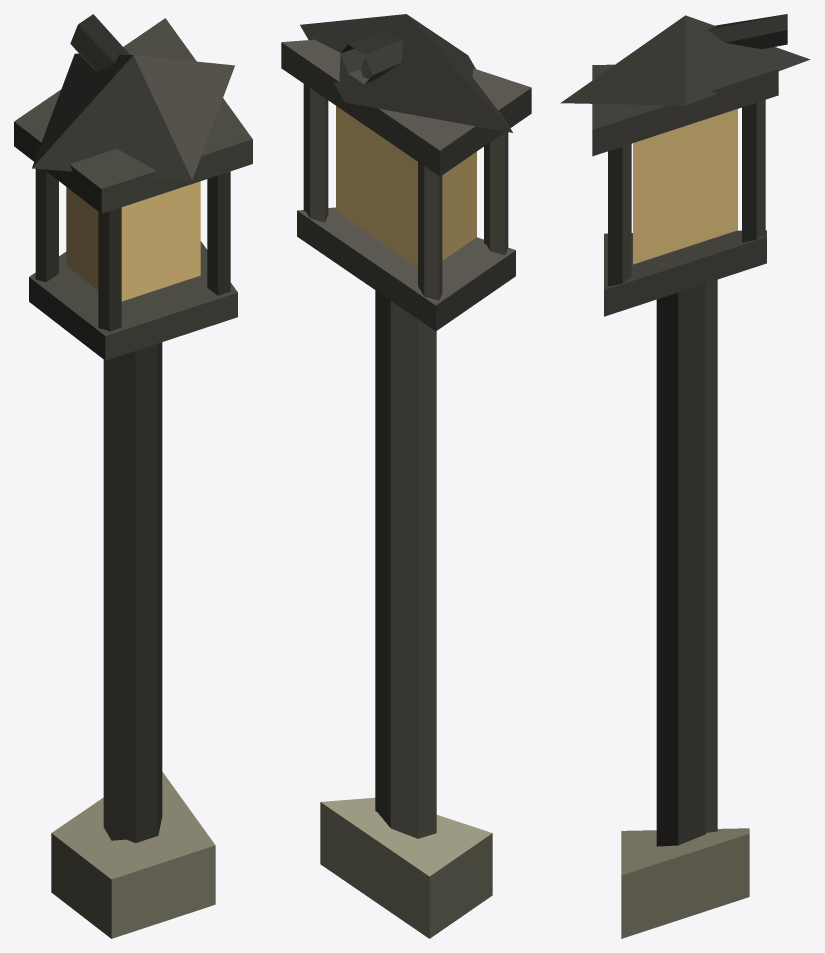
3 renders of one model, left to right at view 1: azimuth 30°, elevation 25°; view 2: azimuth 150°, elevation 25°; view 3: azimuth 270°, elevation 25°, orthographic. The views are drawn at different scales.
Parts seen in each view (by area): view 1: 5c66097190fa6092368ef09295de685534c7f1aa495429d9bd11d238cc16; view 2: 5c66097190fa6092368ef09295de685534c7f1aa495429d9bd11d238cc16; view 3: 5c66097190fa6092368ef09295de685534c7f1aa495429d9bd11d238cc16.
Part boxes in pixels (box(x1,y1,x2,y2)): 5c66097190fa6092368ef09295de685534c7f1aa495429d9bd11d238cc16: box(14, 14, 252, 938); 5c66097190fa6092368ef09295de685534c7f1aa495429d9bd11d238cc16: box(281, 14, 531, 938); 5c66097190fa6092368ef09295de685534c7f1aa495429d9bd11d238cc16: box(560, 14, 810, 938).
Size of the model in its own units: 0.86 by 3.45 by 0.86.
Materials: 2 (1 with a texture image).
